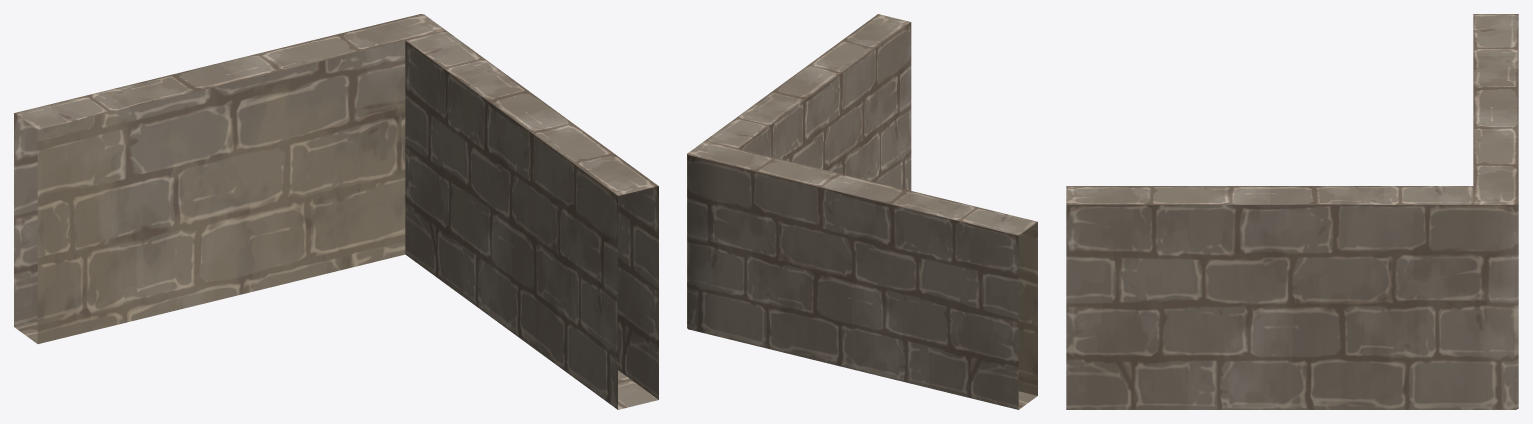
Rendered from Stairs_Exterior_Sides45.obj.
3 views of the same model, side by side, from view 1: azimuth 30°, elevation 25°; view 2: azimuth 150°, elevation 25°; view 3: azimuth 270°, elevation 25° (orthographic). The views are drawn at different scales.
Visible parts, largest first — view 1: Stairs_Exterior_Sides45; view 2: Stairs_Exterior_Sides45; view 3: Stairs_Exterior_Sides45.
Boxes of the visible parts, bbox=[...] form: Stairs_Exterior_Sides45: bbox=[14, 14, 658, 409]; Stairs_Exterior_Sides45: bbox=[687, 14, 1037, 409]; Stairs_Exterior_Sides45: bbox=[1066, 14, 1518, 409].
Size of the model in its own units: 2 by 1 by 2.
